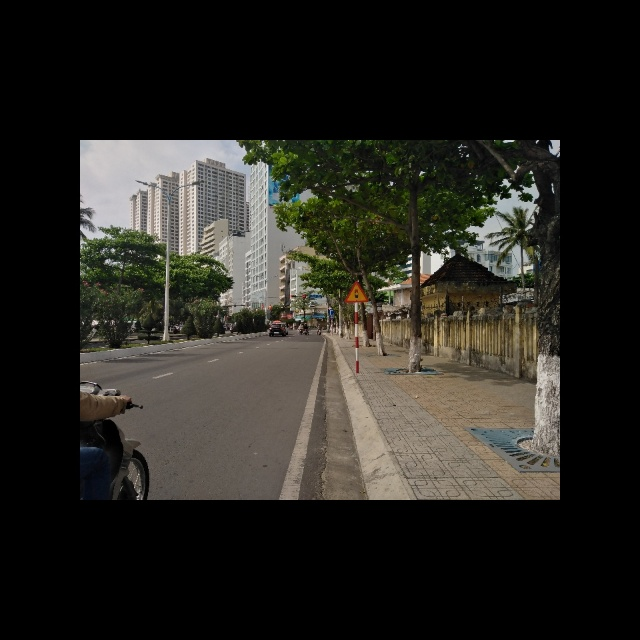Giao nhau có tín hiệu đèn: (344, 279, 370, 303)
